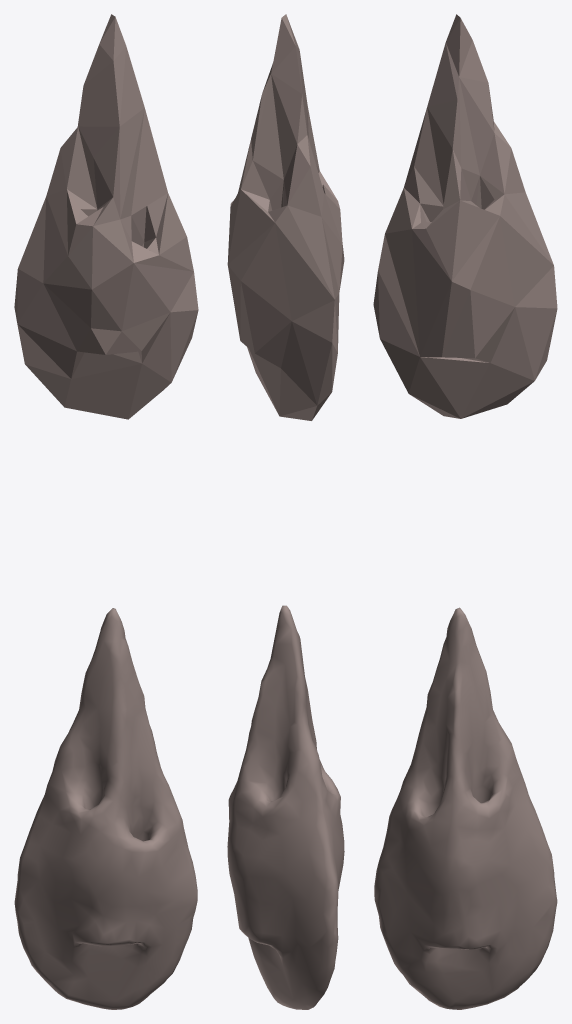
File: Peuknyth.dae
3 views of the same model, side by side, from view 1: azimuth 90°, elevation 25°; view 2: azimuth 210°, elevation 25°; view 3: azimuth 270°, elevation 25° (orthographic).
Parts seen in each view (by area): view 1: Peuknyth1Col, Peuknyth1; view 2: Peuknyth1, Peuknyth1Col; view 3: Peuknyth1Col, Peuknyth1.
Boxes of the visible parts, bbox=[...] form: Peuknyth1Col: bbox=[14, 14, 198, 419]; Peuknyth1: bbox=[14, 608, 197, 1009]; Peuknyth1: bbox=[227, 605, 344, 1009]; Peuknyth1Col: bbox=[227, 14, 344, 420]; Peuknyth1Col: bbox=[373, 14, 557, 418]; Peuknyth1: bbox=[374, 607, 557, 1009].
Bounding box in the file's own units: 1.8 × 2.74 × 16.32.
